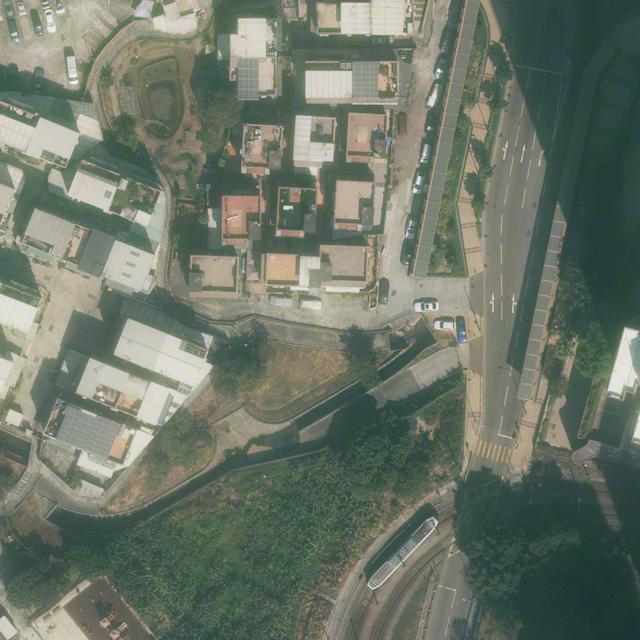panel: (83, 415, 122, 459), (64, 409, 96, 450), (237, 57, 259, 102), (352, 59, 377, 98), (55, 414, 75, 443), (63, 405, 78, 418)
